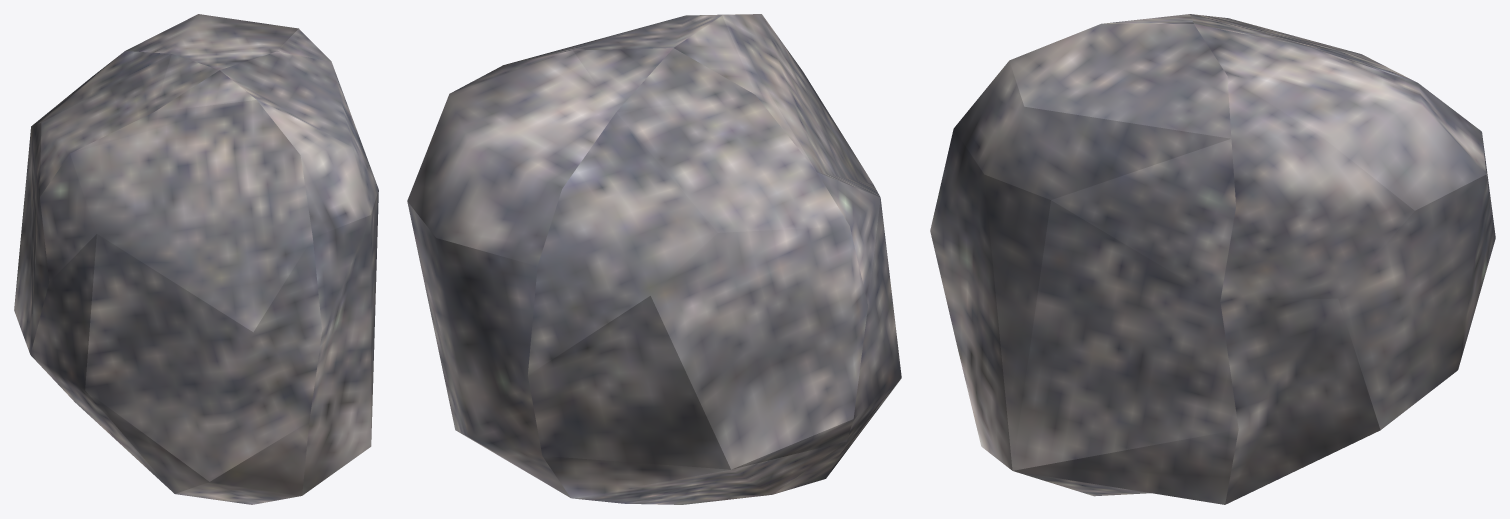
Rendered from Stone2.fbx.
The picture shows the model from 3 angles, left to right: view 1: azimuth 30°, elevation 25°; view 2: azimuth 150°, elevation 25°; view 3: azimuth 270°, elevation 25°; orthographic projection. The views are drawn at different scales.
Visible parts, largest first — view 1: Stone_2; view 2: Stone_2; view 3: Stone_2.
Boxes of the visible parts, x1,y1,x2,y2 form: Stone_2: (14, 14, 378, 504); Stone_2: (407, 14, 901, 504); Stone_2: (930, 14, 1495, 504).
Size of the model in its own units: 18.37 by 22.76 by 24.43.
